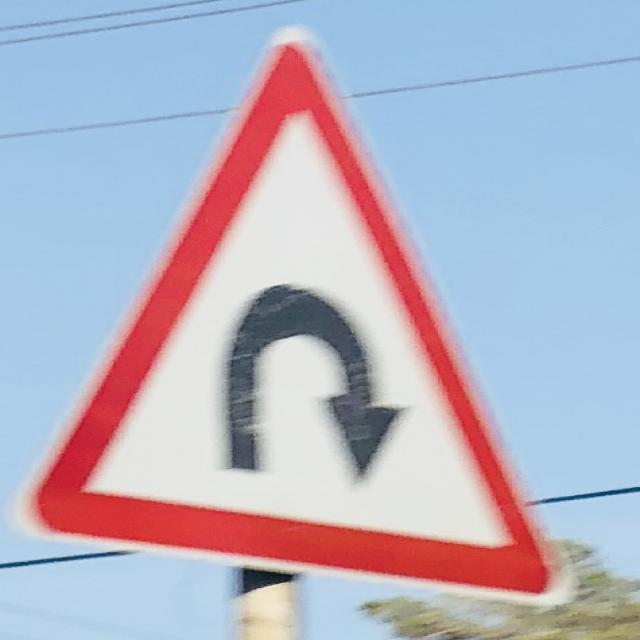u turn: (30, 32, 563, 599)
